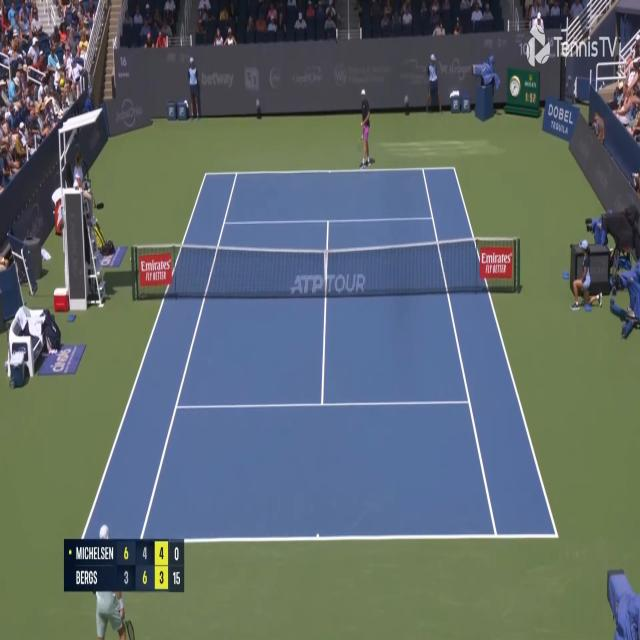tennis-player: (357, 86, 373, 170)
